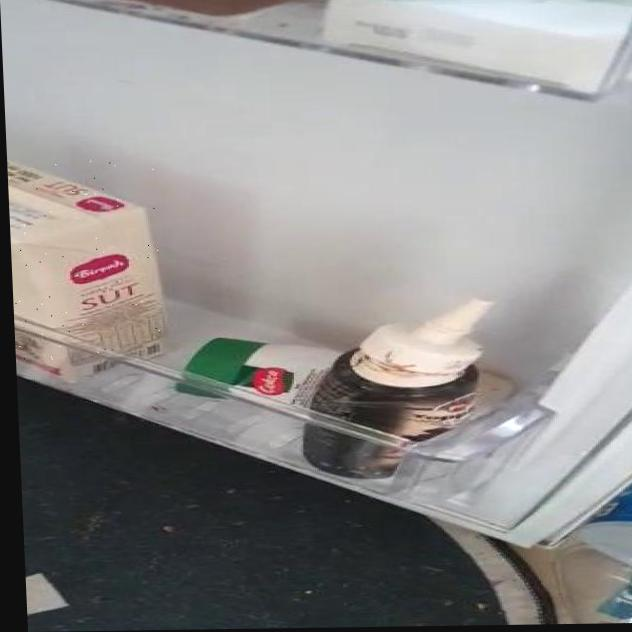milk: (8, 160, 164, 365)
